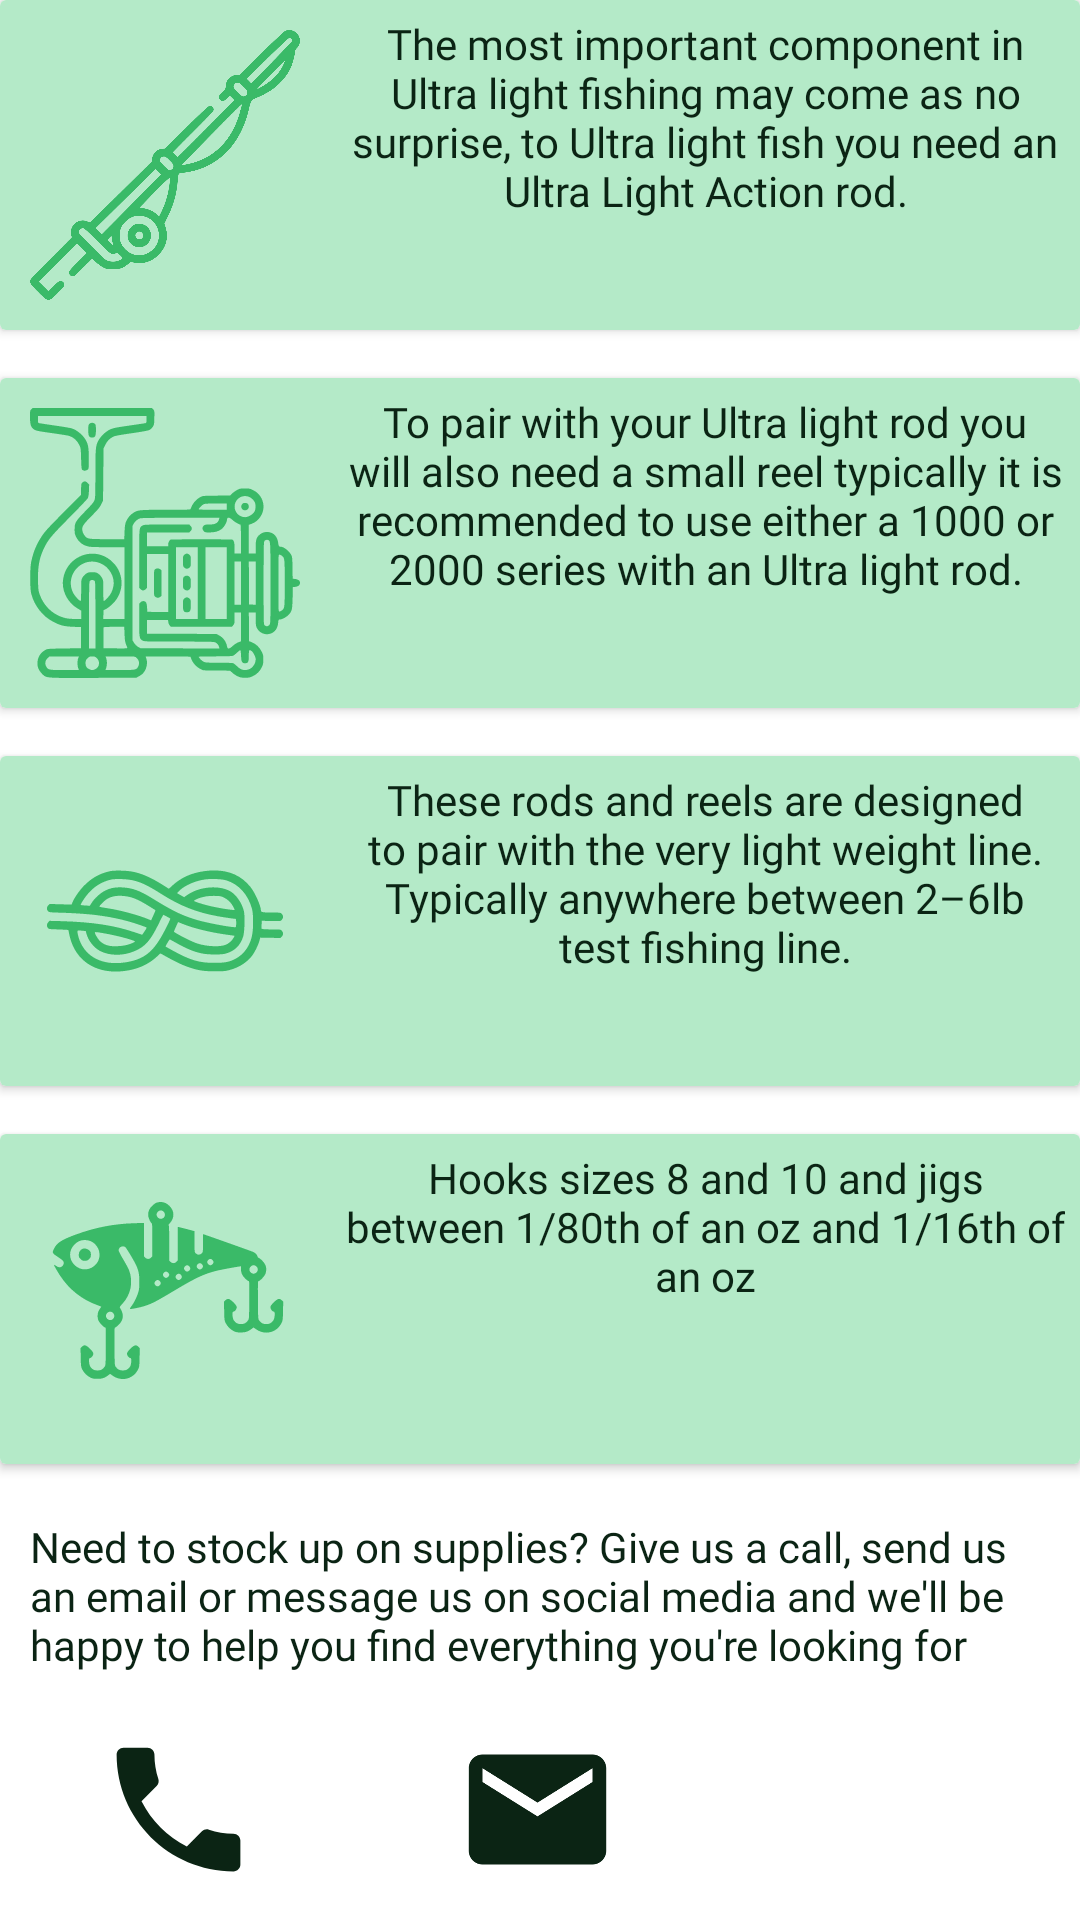

Icon click points for this 1080px x 1920px phone screenshot, format (x=x, y=y):
fishing baits: (x=168, y=1290)
knot: (x=165, y=921)
local phone: (x=178, y=1809)
